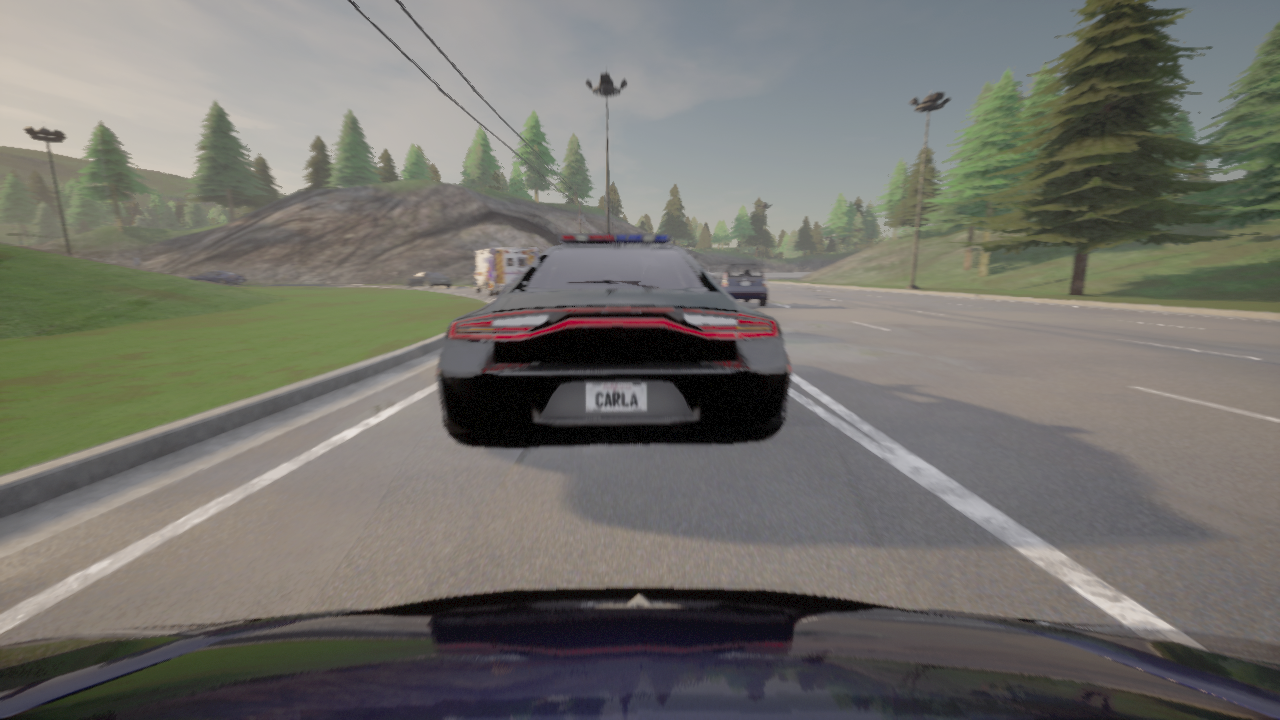cyclist: (0, 588, 1279, 719), (436, 234, 790, 447), (469, 248, 537, 296), (709, 262, 768, 307), (404, 271, 452, 289), (188, 270, 245, 285)
